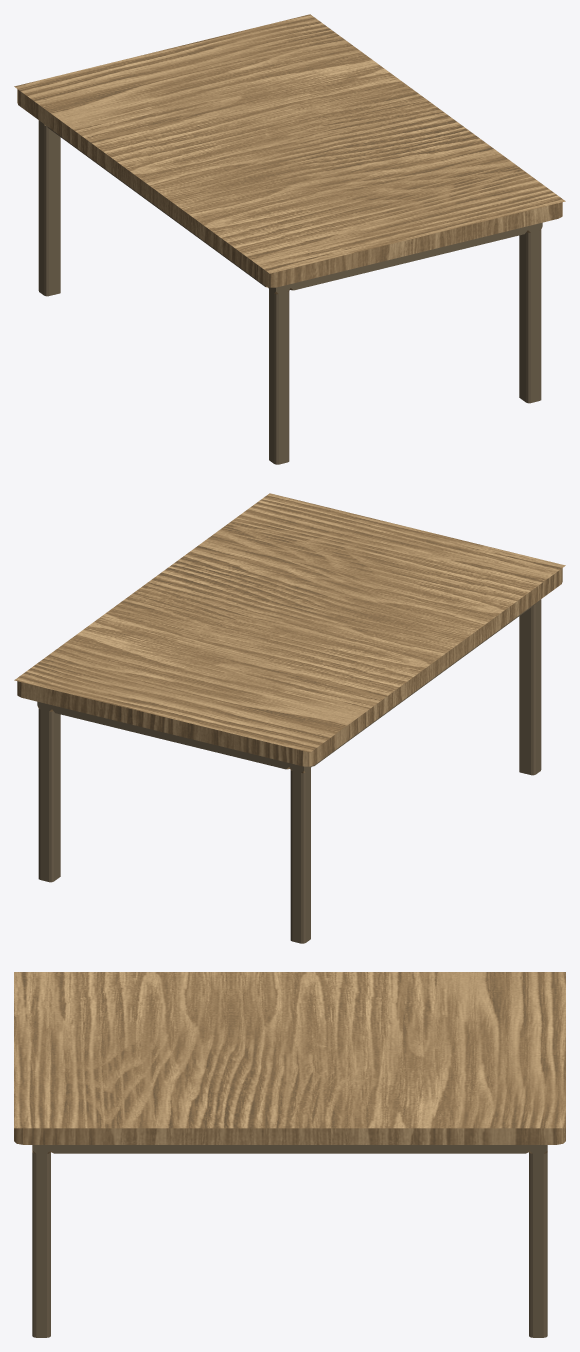
The model's file is Table1.fbx.
The picture shows the model from 3 angles, top to bottom: view 1: azimuth 30°, elevation 25°; view 2: azimuth 150°, elevation 25°; view 3: azimuth 270°, elevation 25°; orthographic projection. The views are drawn at different scales.
Parts seen in each view (by area): view 1: Table1; view 2: Table1; view 3: Table1.
Boxes of the visible parts, x1,y1,x2,y2 form: Table1: (14, 14, 565, 464); Table1: (14, 493, 565, 943); Table1: (14, 972, 565, 1337).
Bounding box in the file's own units: 1 × 0.65 × 1.5.
